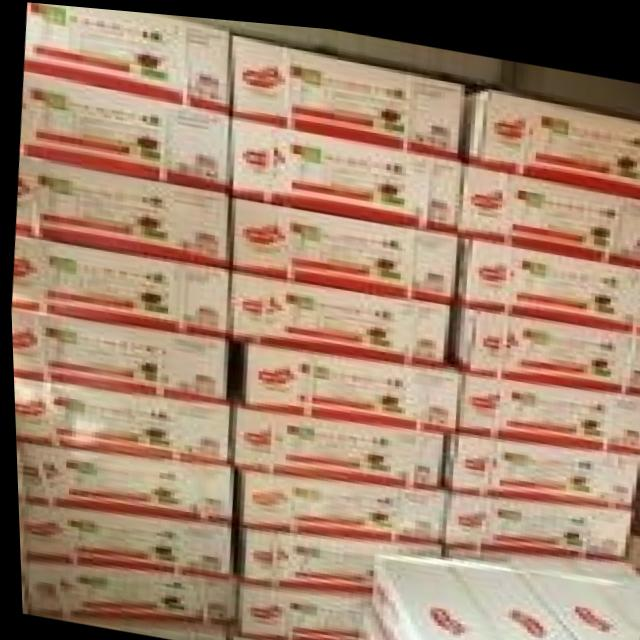box: (228, 28, 464, 154), (227, 112, 464, 226), (18, 68, 228, 190), (230, 193, 455, 295), (13, 157, 227, 262), (23, 2, 232, 108), (9, 235, 226, 335), (226, 265, 451, 360), (9, 310, 226, 401), (238, 337, 459, 426), (464, 79, 640, 184), (11, 376, 230, 460), (459, 154, 640, 255), (227, 399, 444, 482), (444, 298, 640, 386), (455, 229, 640, 322), (13, 441, 227, 521), (441, 420, 638, 497), (21, 503, 228, 576), (234, 464, 440, 537), (456, 369, 640, 441), (18, 555, 229, 617), (440, 552, 584, 640), (236, 523, 437, 586), (363, 550, 502, 640), (441, 485, 627, 551), (514, 552, 636, 640), (232, 578, 360, 640), (573, 551, 639, 617)
